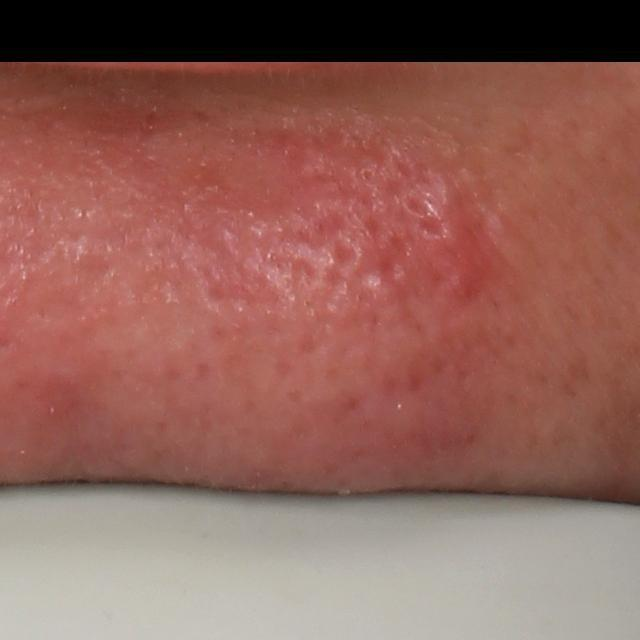papule: (422, 190, 500, 304)
